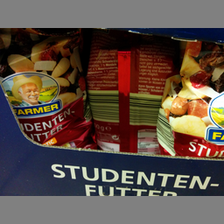nuts: (1, 29, 95, 150), (85, 35, 175, 153), (158, 40, 223, 156)
